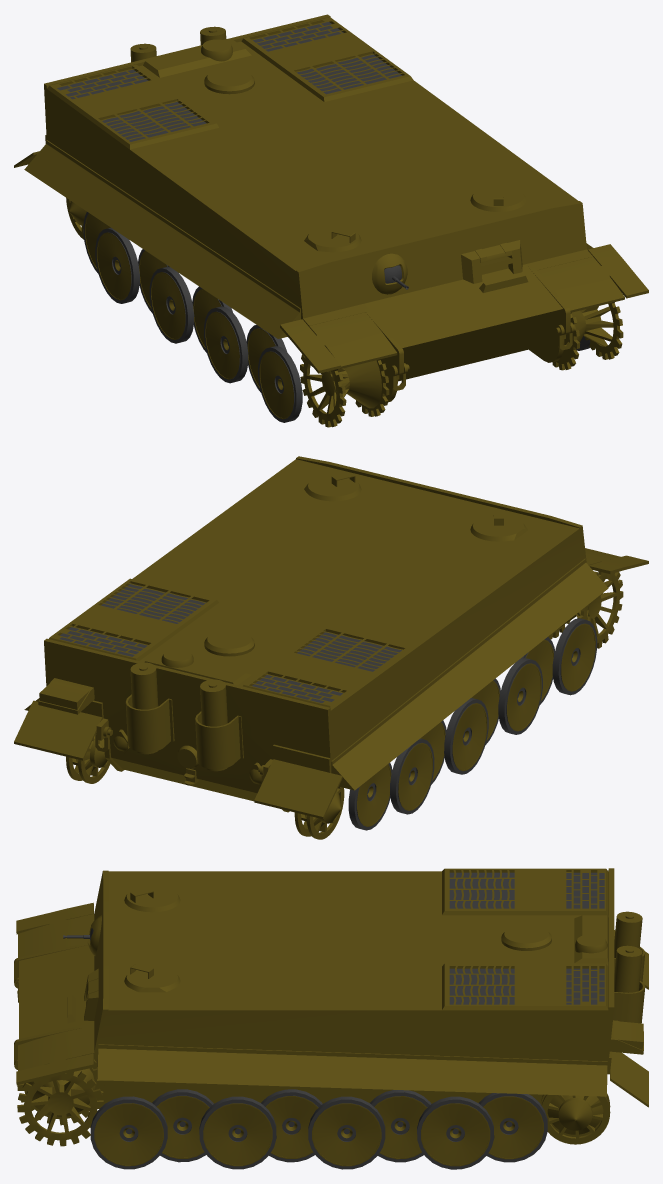
Rendered from RussianBody.obj.
The picture shows the model from 3 angles, top to bottom: view 1: azimuth 30°, elevation 25°; view 2: azimuth 150°, elevation 25°; view 3: azimuth 270°, elevation 25°; orthographic projection.
Parts seen in each view (by area): view 1: Tiger_(Chassis), Tiger_(Sprocket_right), Tiger_(Chassis_-_Asym_Adds), Tiger_(Bogie_Wheel_Outer_Right).001, Tiger_(Bogie_Wheel_Outer_Right).002, Tiger_(Bogie_Wheel_Outer_Right).003, Tiger_(Bogie_Wheel_Outer_Right).004, Tiger_(Sprocket_left), Tiger_(Bogie_Wheel_Inner_Right).001, Tiger_(Bogie_Wheel_Inner_Right).002, Tiger_(Bogie_Wheel_Inner_Right).003, Tiger_(Bogie_Wheel_Inner_Right).004; view 2: Tiger_(Chassis), Tiger_(Bogie_Wheel_Outer_Right).001, Tiger_(Bogie_Wheel_Outer_Right).002, Tiger_(Bogie_Wheel_Outer_Right).003, Tiger_(Bogie_Wheel_Outer_Right).004, Tiger_(Chassis_-_Asym_Adds), Tiger_(Bogie_Wheel_Inner_Right).004, Tiger_(Sprocket_right), Tiger_(Idler_right), Tiger_(Idler_left), Tiger_(Bogie_Wheel_Inner_Right).001, Tiger_(Bogie_Wheel_Inner_Right).002 (+1 smaller); view 3: Tiger_(Chassis), Tiger_(Sprocket_left), Tiger_(Bogie_Wheel_Outer_Left).003, Tiger_(Bogie_Wheel_Outer_Left).001, Tiger_(Bogie_Wheel_Outer_Left).002, Tiger_(Bogie_Wheel_Outer_Left).004, Tiger_(Bogie_Wheel_Inner_Left).004, Tiger_(Bogie_Wheel_Inner_Left).002, Tiger_(Bogie_Wheel_Inner_Left).001, Tiger_(Bogie_Wheel_Inner_Left).003, Tiger_(Idler_left), Tiger_(Chassis_-_Asym_Adds).
Part boxes in pixels (x1,y1,x2,y2): Tiger_(Chassis): (14, 14, 648, 402); Tiger_(Sprocket_right): (300, 354, 389, 427); Tiger_(Chassis_-_Asym_Adds): (201, 39, 528, 294); Tiger_(Bogie_Wheel_Outer_Right).001: (258, 346, 302, 422); Tiger_(Bogie_Wheel_Outer_Right).002: (204, 306, 248, 383); Tiger_(Bogie_Wheel_Outer_Right).003: (149, 266, 194, 343); Tiger_(Bogie_Wheel_Outer_Right).004: (95, 227, 139, 303); Tiger_(Sprocket_left): (552, 302, 623, 370); Tiger_(Bogie_Wheel_Inner_Right).001: (246, 325, 286, 392); Tiger_(Bogie_Wheel_Inner_Right).002: (192, 286, 232, 352); Tiger_(Bogie_Wheel_Inner_Right).003: (138, 249, 169, 313); Tiger_(Bogie_Wheel_Inner_Right).004: (83, 212, 110, 273); Tiger_(Chassis): (14, 456, 648, 819); Tiger_(Bogie_Wheel_Outer_Right).001: (552, 618, 597, 695); Tiger_(Bogie_Wheel_Outer_Right).002: (498, 658, 542, 734); Tiger_(Bogie_Wheel_Outer_Right).003: (444, 698, 488, 774); Tiger_(Bogie_Wheel_Outer_Right).004: (390, 738, 434, 814); Tiger_(Chassis_-_Asym_Adds): (38, 649, 193, 714); Tiger_(Bogie_Wheel_Inner_Right).004: (348, 762, 392, 830); Tiger_(Sprocket_right): (548, 571, 623, 648); Tiger_(Idler_right): (294, 786, 344, 839); Tiger_(Idler_left): (66, 735, 110, 783); Tiger_(Bogie_Wheel_Inner_Right).001: (519, 637, 554, 705); Tiger_(Bogie_Wheel_Inner_Right).002: (471, 678, 500, 744); Tiger_(Chassis): (14, 868, 648, 1108); Tiger_(Sprocket_left): (17, 1059, 104, 1146); Tiger_(Bogie_Wheel_Outer_Left).003: (308, 1096, 385, 1169); Tiger_(Bogie_Wheel_Outer_Left).001: (90, 1096, 167, 1169); Tiger_(Bogie_Wheel_Outer_Left).002: (199, 1096, 276, 1169); Tiger_(Bogie_Wheel_Outer_Left).004: (417, 1096, 494, 1169); Tiger_(Bogie_Wheel_Inner_Left).004: (478, 1093, 547, 1162); Tiger_(Bogie_Wheel_Inner_Left).002: (261, 1089, 322, 1162); Tiger_(Bogie_Wheel_Inner_Left).001: (152, 1089, 213, 1162); Tiger_(Bogie_Wheel_Inner_Left).003: (370, 1090, 431, 1162); Tiger_(Idler_left): (541, 1093, 610, 1144); Tiger_(Chassis_-_Asym_Adds): (67, 915, 643, 1054).
Size of what is drawn, in the model's own units: 3.54 by 1.69 by 5.86.
